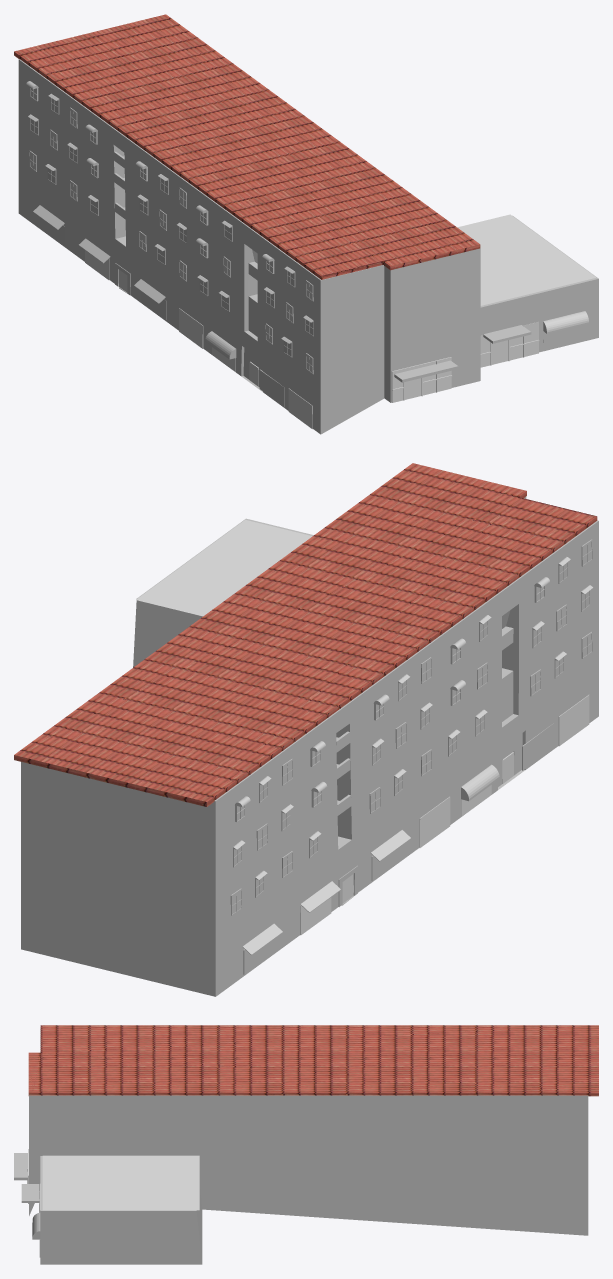
The model's file is stationen2.fbx.
3 renders of one model, top to bottom at view 1: azimuth 30°, elevation 25°; view 2: azimuth 150°, elevation 25°; view 3: azimuth 270°, elevation 25°, orthographic. The views are drawn at different scales.
Parts seen in each view (by area): view 1: Cube.001, Roof, Plane, Cube.009, Entrance, Cube.011, Cube.008, Cube.007; view 2: Cube.001, Roof, Plane, Cube.007, Cube.008, Cube.010; view 3: Cube.001, Roof, Plane.
Part boxes in pixels (<box>): Cube.001: <box>18,59,598,434</box>; Roof: <box>14,14,480,279</box>; Plane: <box>457,214,596,305</box>; Cube.009: <box>480,322,539,367</box>; Entrance: <box>391,357,452,402</box>; Cube.011: <box>543,324,586,350</box>; Cube.008: <box>288,388,312,429</box>; Cube.007: <box>179,308,203,348</box>; Cube.001: <box>21,497,598,996</box>; Roof: <box>14,463,597,806</box>; Plane: <box>136,520,312,616</box>; Cube.007: <box>419,796,450,847</box>; Cube.008: <box>558,695,589,746</box>; Cube.010: <box>522,723,553,770</box>; Cube.001: <box>14,1028,588,1264</box>; Roof: <box>28,1025,598,1096</box>; Plane: <box>42,1155,199,1210</box>.
Bounding box in the file's own units: 33.99 × 18.11 × 66.55.
